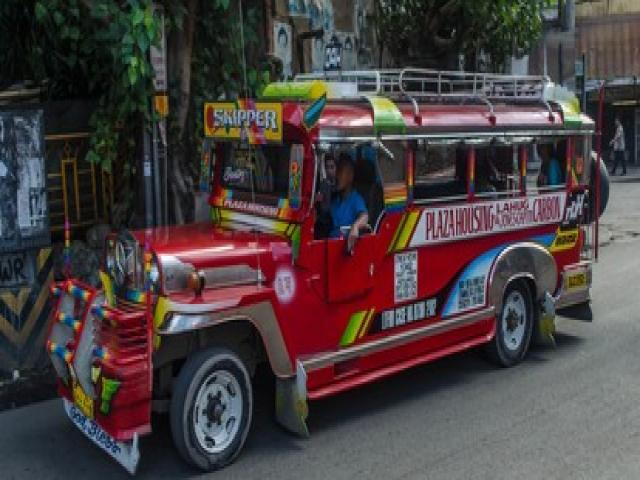jeepney: (48, 66, 614, 478)
